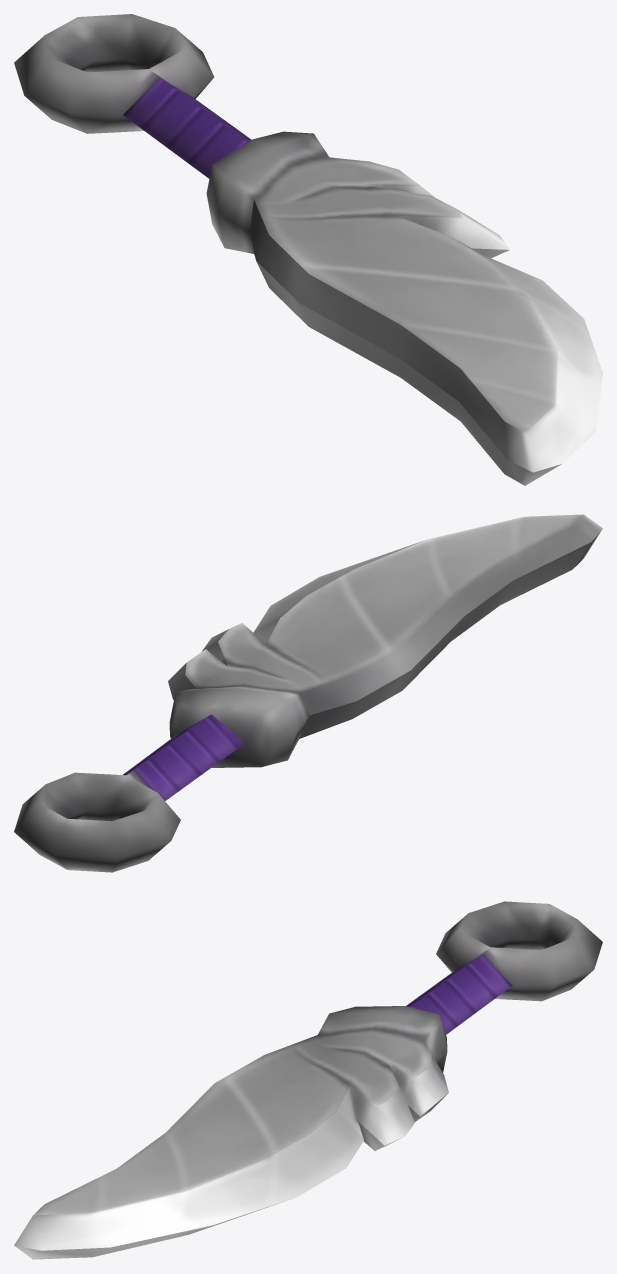
The model's file is knife_1.fbx.
3 views of the same model, one above another, from view 1: azimuth 30°, elevation 25°; view 2: azimuth 150°, elevation 25°; view 3: azimuth 330°, elevation 25° (orthographic). The views are drawn at different scales.
Parts seen in each view (by area): view 1: knife_1; view 2: knife_1; view 3: knife_1.
Boxes of the visible parts, x1,y1,x2,y2 form: knife_1: (14,14,602,485); knife_1: (14,514,602,872); knife_1: (14,901,602,1259).
Bounding box in the file's own units: 0.4748 × 0.1689 × 2.07.
